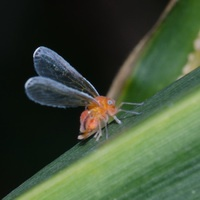insect: (25, 46, 140, 139)
